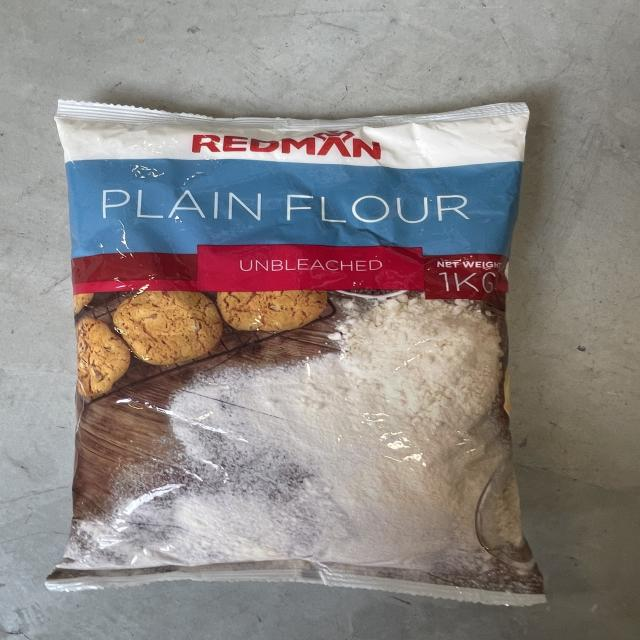object_name: (61, 108, 515, 594)
